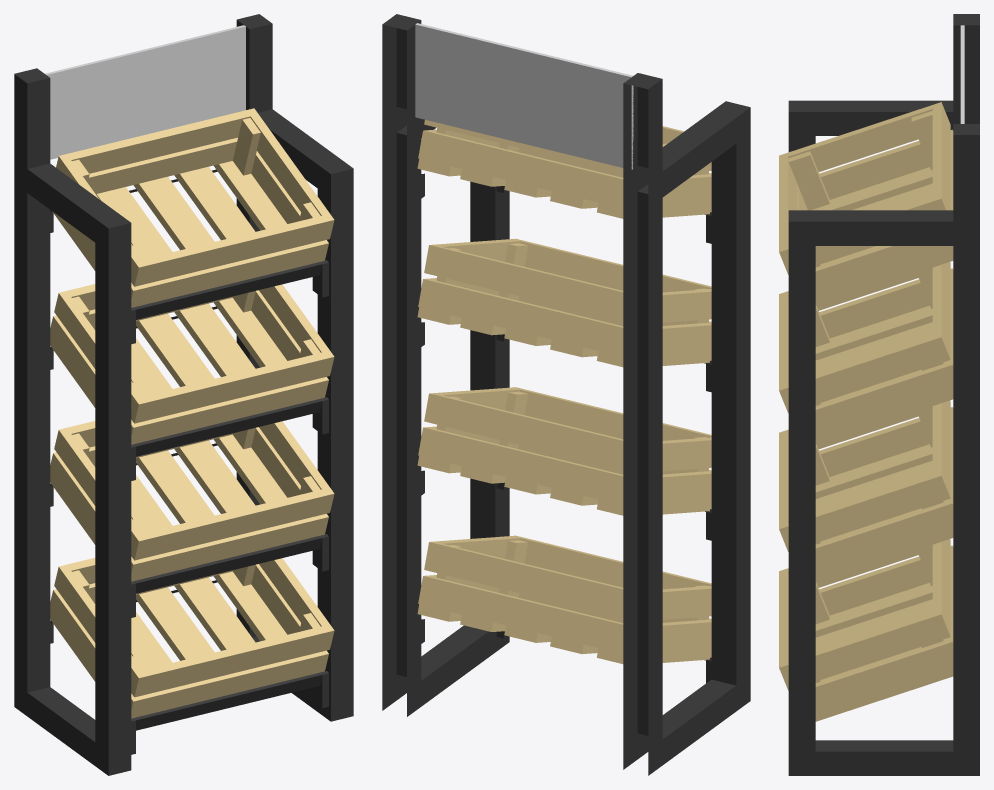
The model's file is SM_ShelfD_low.fbx.
3 renders of one model, left to right at view 1: azimuth 30°, elevation 25°; view 2: azimuth 150°, elevation 25°; view 3: azimuth 270°, elevation 25°, orthographic. The views are drawn at different scales.
Parts seen in each view (by area): view 1: SM_ShelfD_low; view 2: SM_ShelfD_low; view 3: SM_ShelfD_low.
Part boxes in pixels (<box>): SM_ShelfD_low: <box>14,14,353,775</box>; SM_ShelfD_low: <box>382,14,750,775</box>; SM_ShelfD_low: <box>779,14,979,775</box>.
Bounding box in the file's own units: 75 × 185 × 52.55.
